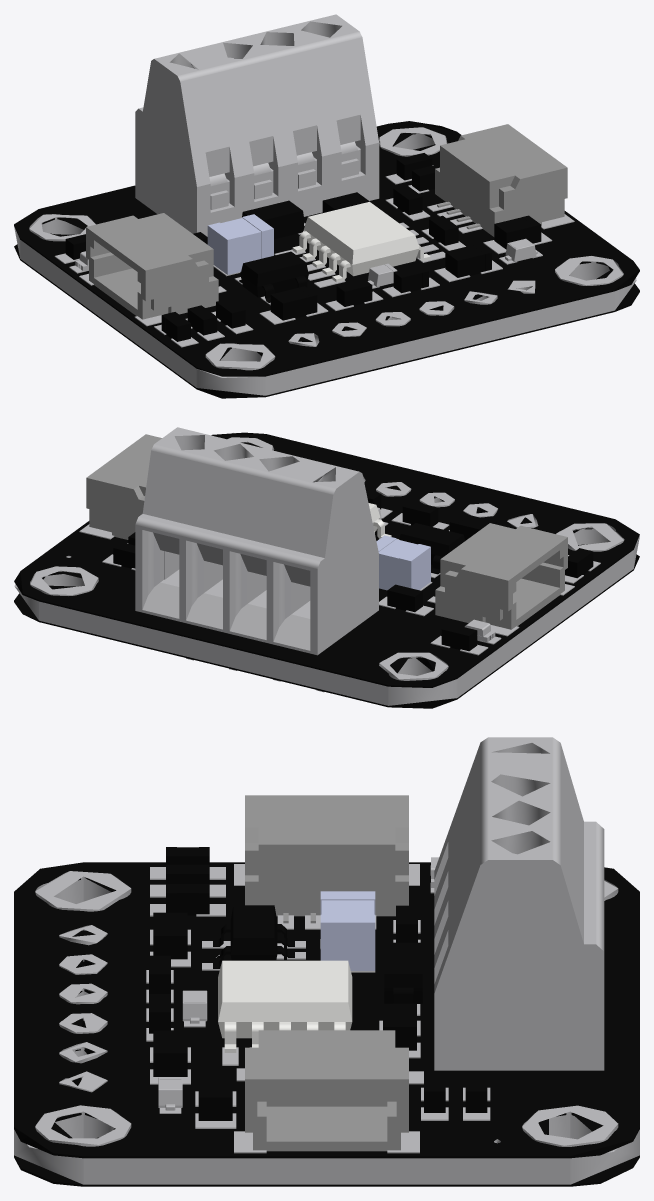
The model's file is ada-6516.glb.
3 renders of one model, top to bottom at view 1: azimuth 30°, elevation 25°; view 2: azimuth 150°, elevation 25°; view 3: azimuth 270°, elevation 25°, orthographic. The views are drawn at different scales.
Visible parts, largest first — view 1: 0.5833333333333334_0.5833333333333334_0.5833333333333334_0.8, 0_0_0_0, 0.3333333333333333_0.3333333333333333_0.3333333333333333_0, 0.9166666666666666_0.9166666666666666_0.9166666666666666_0.8, 0.5833333333333334_0.6666666666666666_0.8333333333333334_0; view 2: 0.5833333333333334_0.5833333333333334_0.5833333333333334_0.8, 0_0_0_0, 0.3333333333333333_0.3333333333333333_0.3333333333333333_0, 0.5833333333333334_0.6666666666666666_0.8333333333333334_0; view 3: 0_0_0_0, 0.5833333333333334_0.5833333333333334_0.5833333333333334_0.8, 0.3333333333333333_0.3333333333333333_0.3333333333333333_0, 0.9166666666666666_0.9166666666666666_0.9166666666666666_0.8, 0.5833333333333334_0.6666666666666666_0.8333333333333334_0.
Boxes of the visible parts, box(x1,y1,x2,y2) form: 0.5833333333333334_0.5833333333333334_0.5833333333333334_0.8: box(14, 14, 636, 395); 0_0_0_0: box(14, 121, 639, 398); 0.3333333333333333_0.3333333333333333_0.3333333333333333_0: box(86, 124, 567, 319); 0.9166666666666666_0.9166666666666666_0.9166666666666666_0.8: box(292, 201, 430, 282); 0.5833333333333334_0.6666666666666666_0.8333333333333334_0: box(207, 214, 273, 274); 0.5833333333333334_0.5833333333333334_0.5833333333333334_0.8: box(14, 427, 639, 705); 0_0_0_0: box(14, 432, 639, 708); 0.3333333333333333_0.3333333333333333_0.3333333333333333_0: box(86, 434, 567, 629); 0.5833333333333334_0.6666666666666666_0.8333333333333334_0: box(376, 535, 430, 590); 0_0_0_0: box(14, 847, 639, 1186); 0.5833333333333334_0.5833333333333334_0.5833333333333334_0.8: box(14, 737, 639, 1184); 0.3333333333333333_0.3333333333333333_0.3333333333333333_0: box(245, 795, 408, 1151); 0.9166666666666666_0.9166666666666666_0.9166666666666666_0.8: box(218, 960, 352, 1052); 0.5833333333333334_0.6666666666666666_0.8333333333333334_0: box(320, 891, 375, 970).
Bounding box in the file's own units: 2.54 × 1.2 × 2.29.
